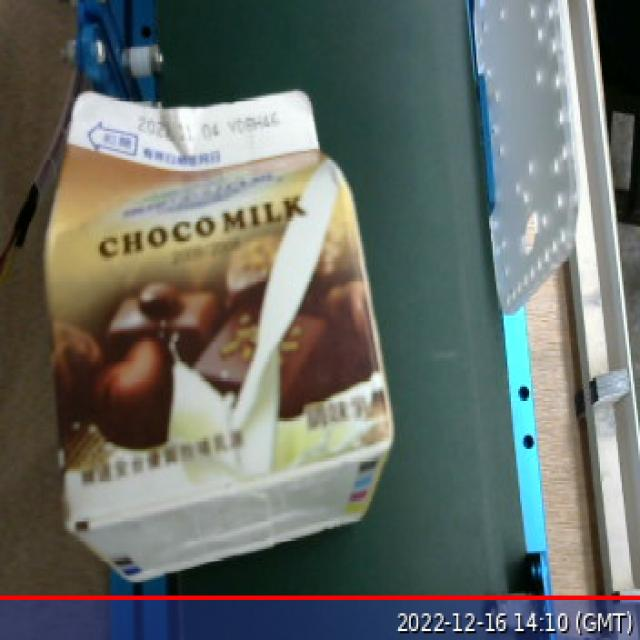non_white_jug: (34, 69, 416, 602)
